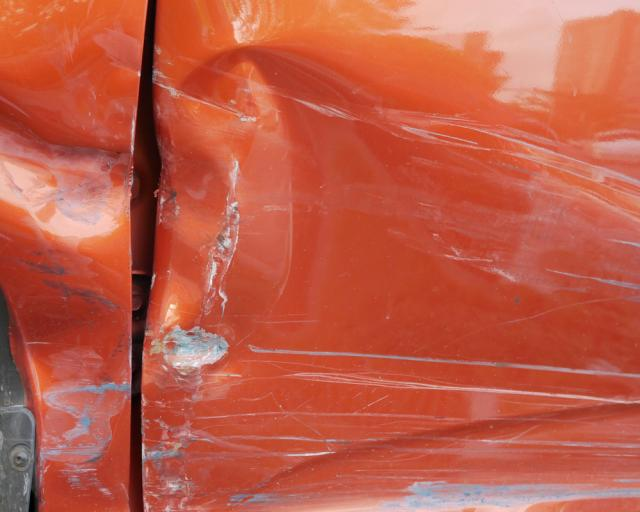dent: (154, 47, 389, 380), (0, 85, 131, 246), (16, 298, 129, 463)
scratch: (141, 334, 640, 512), (364, 101, 640, 333), (36, 454, 123, 505), (13, 242, 85, 301)
